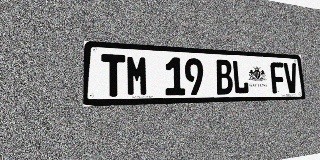1: (164, 57, 185, 96)
9: (185, 58, 204, 95)
B: (215, 59, 233, 95)
F: (270, 62, 286, 93)
L: (232, 60, 249, 94)
M: (126, 55, 149, 96)
T: (101, 54, 126, 97)
V: (283, 63, 299, 93)
